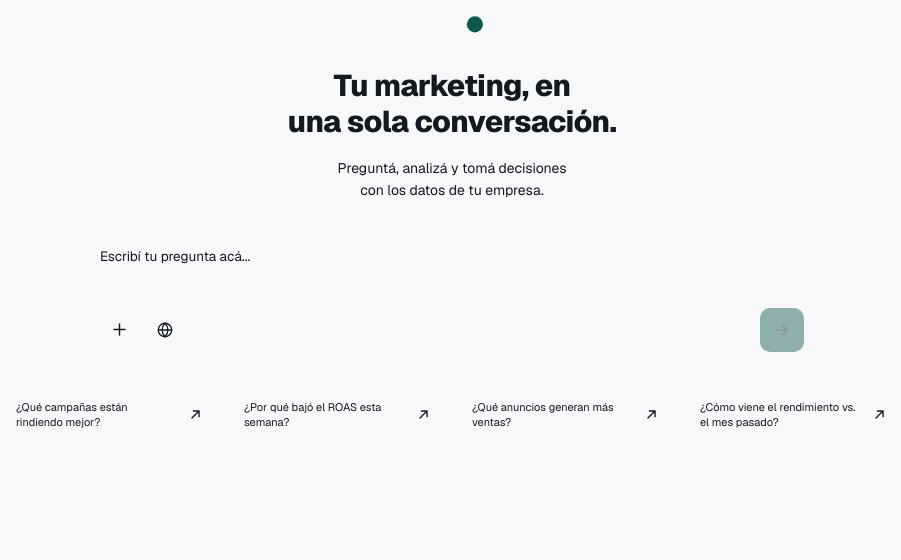
Chat › con `pensando` muestra "Buscando en internet..." después de la pregunta
Type "Hola" into the text box labelled "tu pregunta" at (452, 268), box [100,246,804,290]
Then press Enter
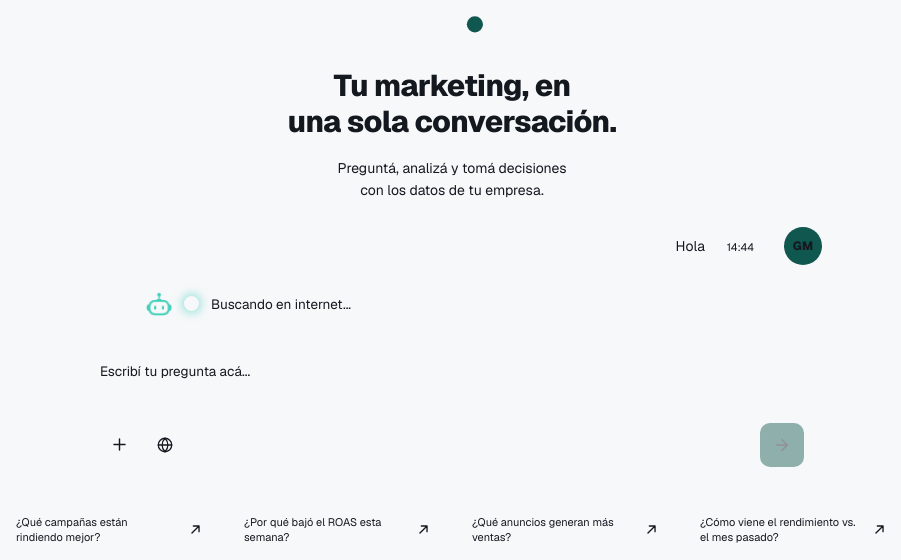
Check: the message reads "Buscando en internet...", box [211,295,351,313]
